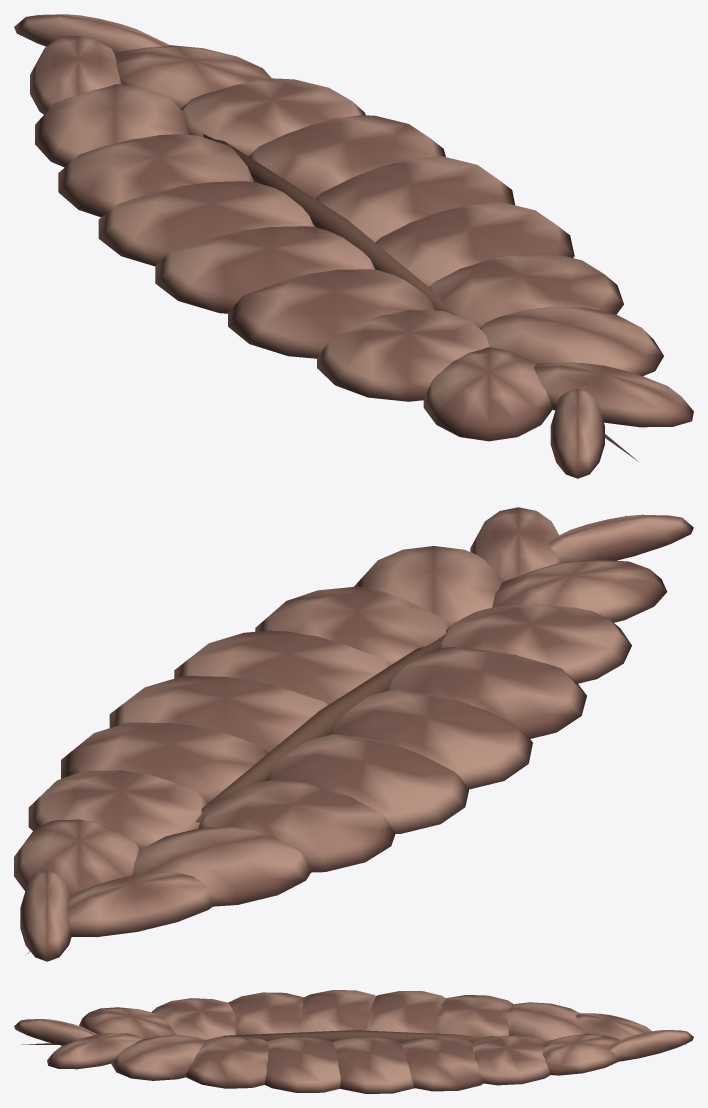
File: Fractofusus.fbx
3 views of the same model, one above another, from view 1: azimuth 30°, elevation 25°; view 2: azimuth 150°, elevation 25°; view 3: azimuth 270°, elevation 25° (orthographic). The views are drawn at different scales.
Visible parts, largest first — view 1: Fractofusus; view 2: Fractofusus; view 3: Fractofusus.
Part boxes in pixels (x1=…): Fractofusus: x1=14, y1=14, x2=693, y2=478; Fractofusus: x1=14, y1=507, x2=693, y2=961; Fractofusus: x1=14, y1=990, x2=693, y2=1093.
Bounding box in the file's own units: 0.512 × 0.042 × 1.47.
